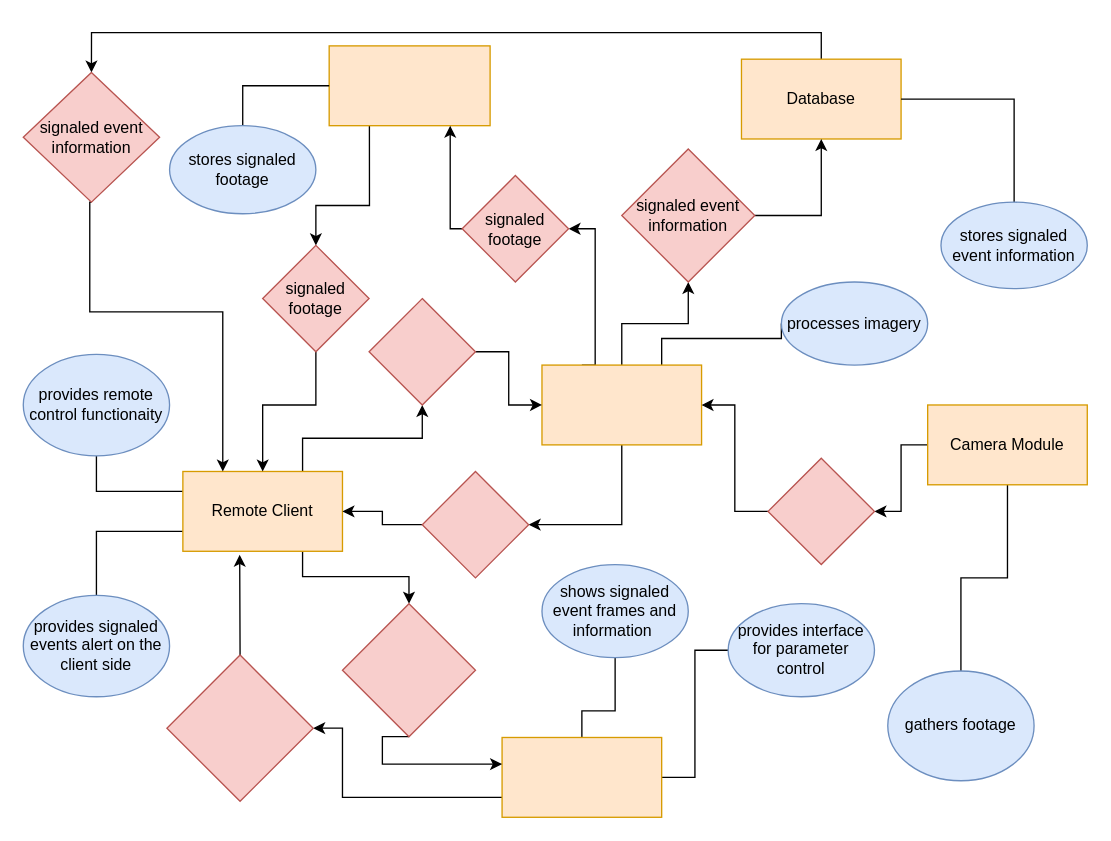
Image size: 1111x841. Some labels were removed from this diagram. Here are the shapes that lost their labels. From the top down, the centre of each, then its label:
the point at 409,85: Cloud Storage
the point at 421,351: parameter control
the point at 621,404: Computational Unit
the point at 475,524: event alerts
the point at 820,511: frames
the point at 408,669: event alerts and frames
the point at 239,727: parameter control instructions
the point at 581,776: Remote Client's User Interface
